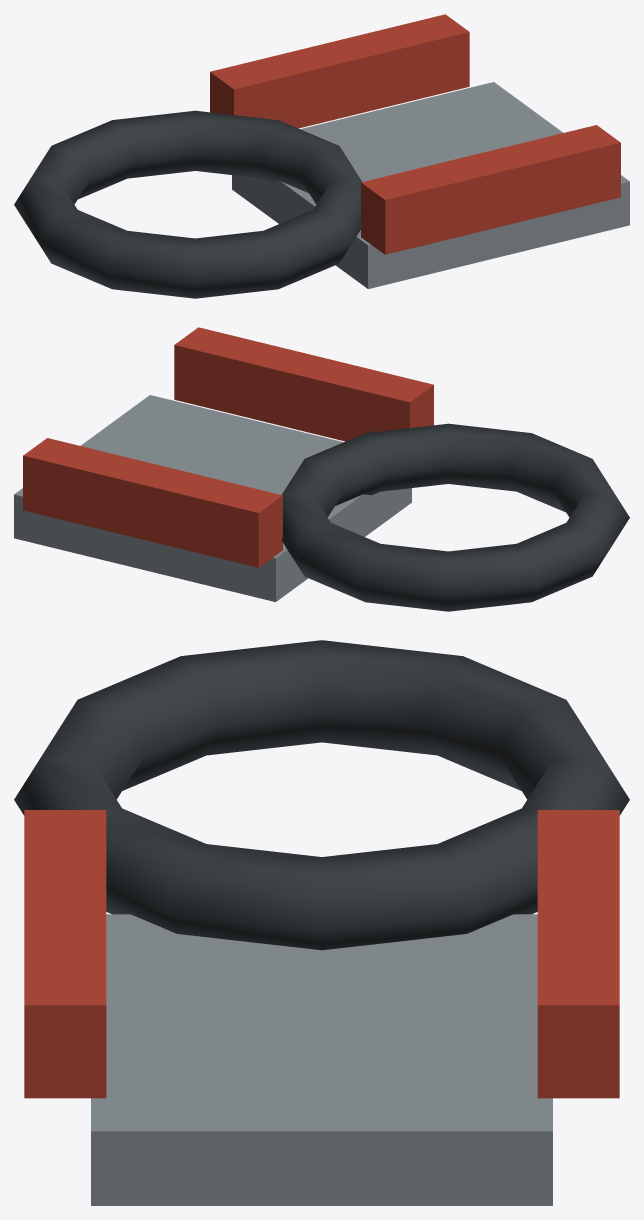
Rendered from flashlight_mount.glb.
3 renders of one model, top to bottom at view 1: azimuth 30°, elevation 25°; view 2: azimuth 150°, elevation 25°; view 3: azimuth 270°, elevation 25°, orthographic. The views are drawn at different scales.
Visible parts, largest first — view 1: flashlight_mount; view 2: flashlight_mount; view 3: flashlight_mount.
Boxes of the visible parts, x1,y1,x2,y2 form: flashlight_mount: [14, 14, 629, 298]; flashlight_mount: [14, 327, 629, 611]; flashlight_mount: [14, 640, 629, 1205].
Bounding box in the file's own units: 0.1 × 0.019 × 0.06.
